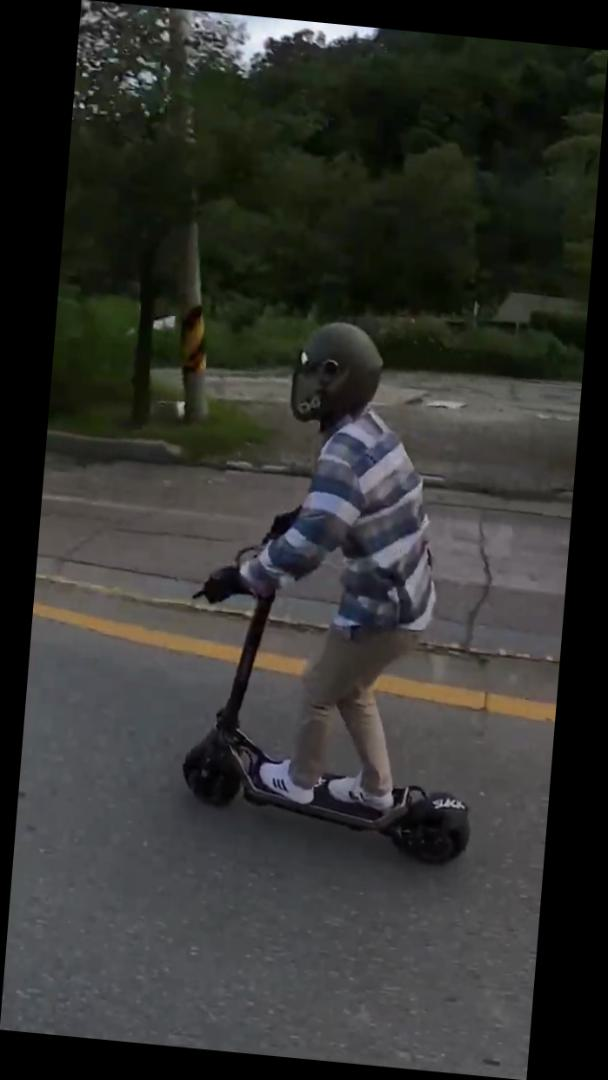helmet: (169, 305, 514, 871)
